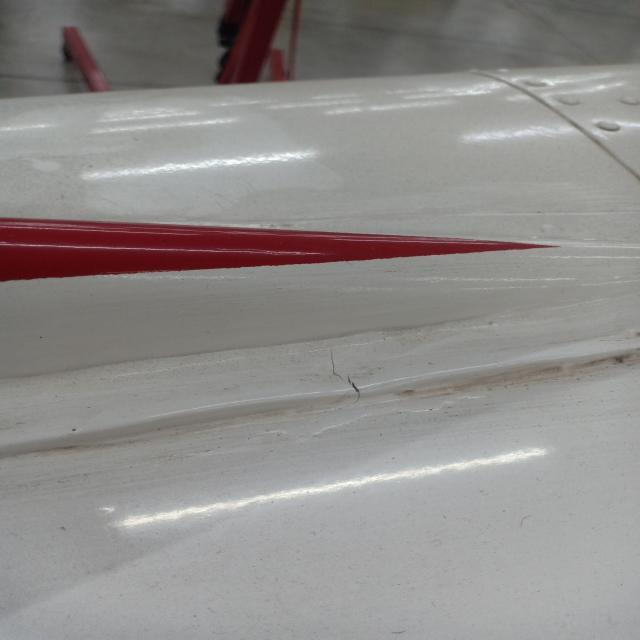Crack: (308, 340, 372, 438)
